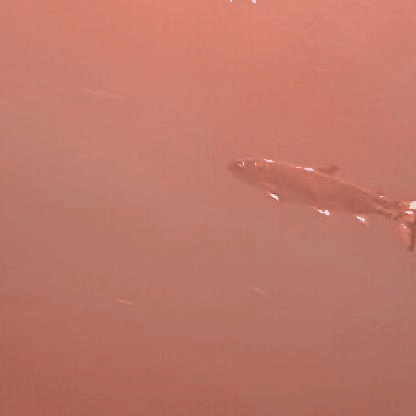salmon: (218, 148, 414, 252)
